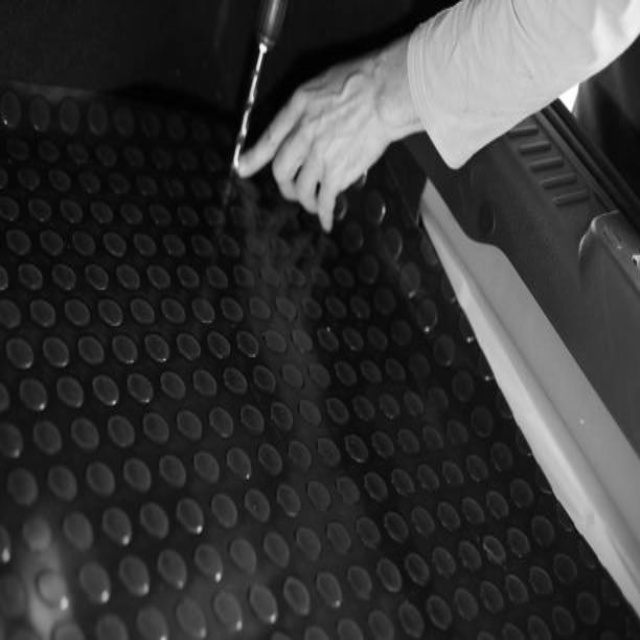Sin_guantes: (241, 38, 418, 231)
